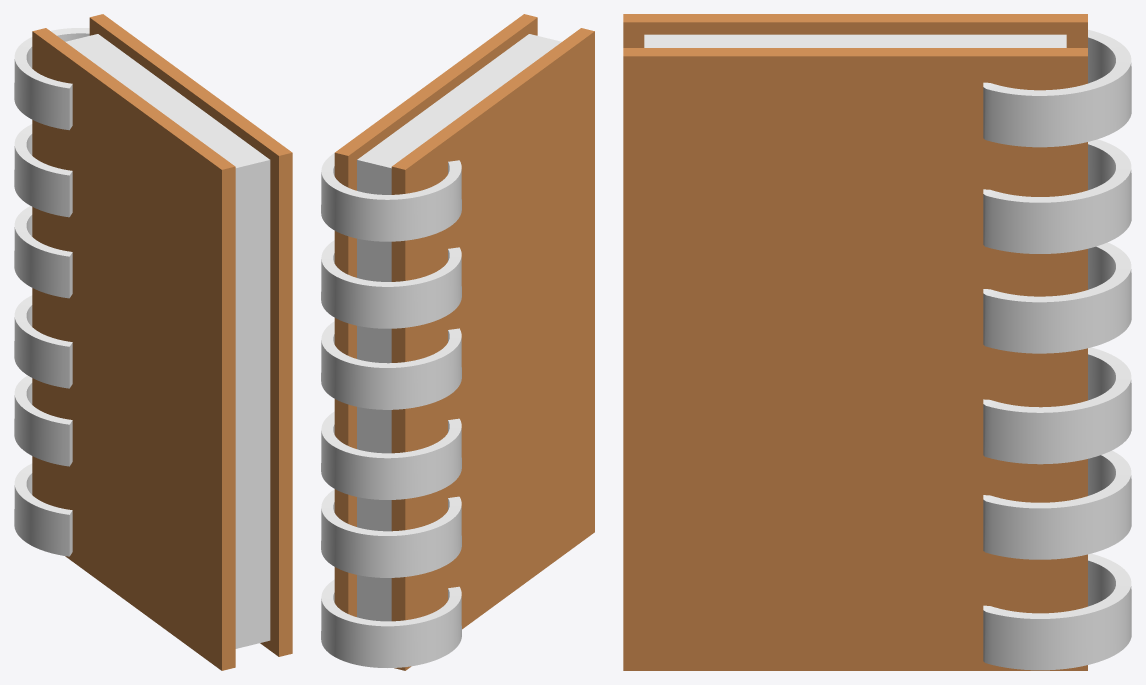
The model's file is shu.fbx.
3 renders of one model, left to right at view 1: azimuth 30°, elevation 25°; view 2: azimuth 150°, elevation 25°; view 3: azimuth 270°, elevation 25°, orthographic. The views are drawn at different scales.
Parts seen in each view (by area): view 1: polySurface5, polySurface7, polySurface6, polySurface10, polySurface3, polySurface2, polySurface9, polySurface8, polySurface4; view 2: polySurface5, polySurface7, polySurface6, polySurface10, polySurface3, polySurface9, polySurface8, polySurface2, polySurface4; view 3: polySurface6, polySurface5, polySurface10, polySurface2, polySurface8, polySurface3, polySurface9, polySurface4, polySurface7.
Part boxes in pixels (x1=…): polySurface5: x1=32, y1=28, x2=235, y2=670; polySurface7: x1=65, y1=34, x2=270, y2=648; polySurface6: x1=89, y1=14, x2=292, y2=656; polySurface10: x1=14, y1=28, x2=89, y2=130; polySurface3: x1=14, y1=124, x2=72, y2=217; polySurface2: x1=14, y1=463, x2=72, y2=556; polySurface9: x1=14, y1=206, x2=72, y2=298; polySurface8: x1=14, y1=295, x2=72, y2=388; polySurface4: x1=14, y1=375, x2=72, y2=466; polySurface5: x1=391, y1=28, x2=594, y2=670; polySurface7: x1=357, y1=34, x2=561, y2=621; polySurface6: x1=334, y1=14, x2=537, y2=616; polySurface10: x1=321, y1=153, x2=461, y2=241; polySurface3: x1=321, y1=240, x2=461, y2=328; polySurface9: x1=321, y1=321, x2=461, y2=409; polySurface8: x1=321, y1=411, x2=461, y2=499; polySurface2: x1=321, y1=579, x2=461, y2=667; polySurface4: x1=321, y1=489, x2=461, y2=577; polySurface6: x1=623, y1=48, x2=1087, y2=670; polySurface5: x1=623, y1=14, x2=1087, y2=47; polySurface10: x1=983, y1=29, x2=1131, y2=147; polySurface2: x1=983, y1=553, x2=1131, y2=670; polySurface8: x1=983, y1=347, x2=1131, y2=464; polySurface3: x1=983, y1=139, x2=1131, y2=253; polySurface9: x1=983, y1=242, x2=1131, y2=353; polySurface4: x1=983, y1=450, x2=1131, y2=559; polySurface7: x1=644, y1=34, x2=1066, y2=47.
Size of the model in its own units: 0.5 by 1.5 by 2.
